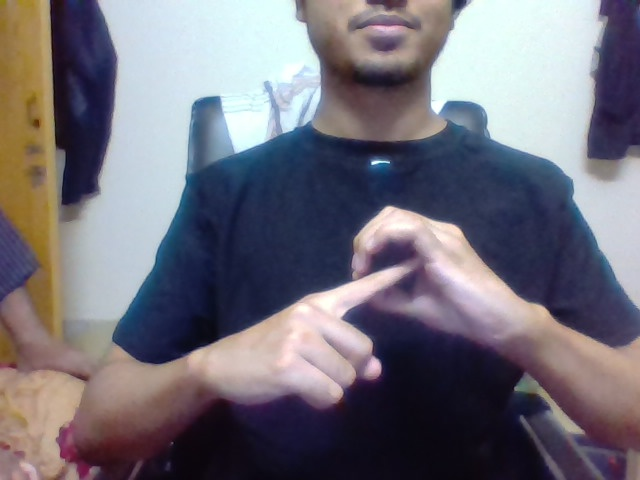Q: (357, 224, 443, 319)
